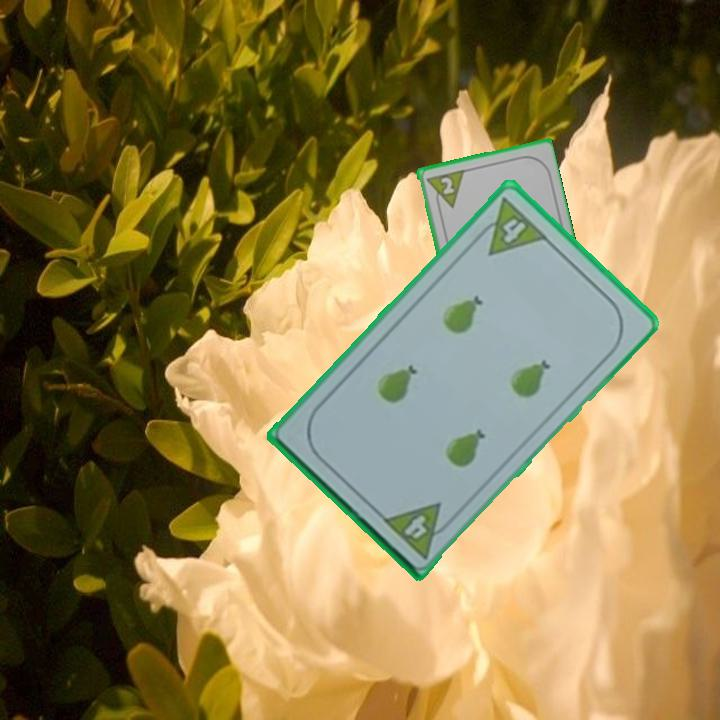2p: (422, 166, 466, 213)
4p: (470, 193, 551, 259), (379, 498, 457, 562)
